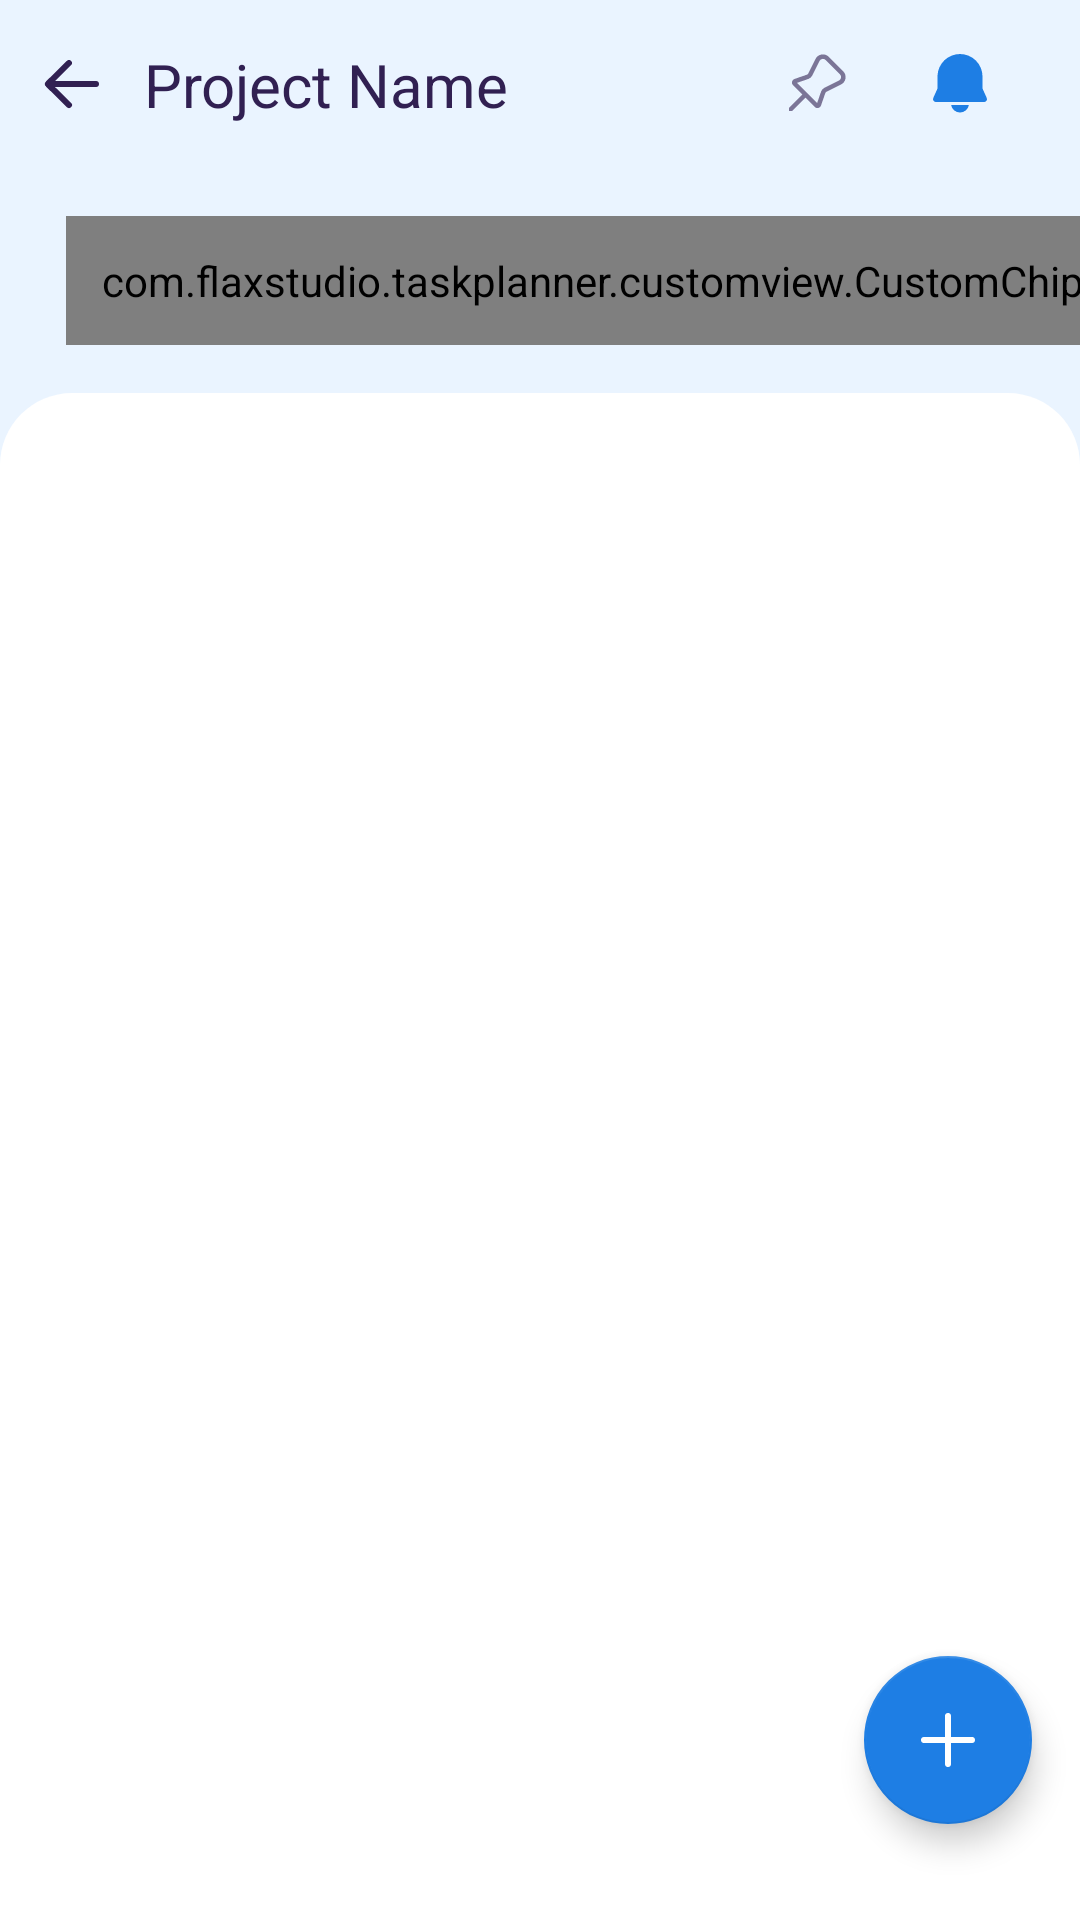

Icon bounding boxes for this 1080*1920 phone screenshot, format (x1, y1, x2, y2):
add: (864, 1656, 1032, 1824)
notification toggle: (933, 54, 987, 113)
